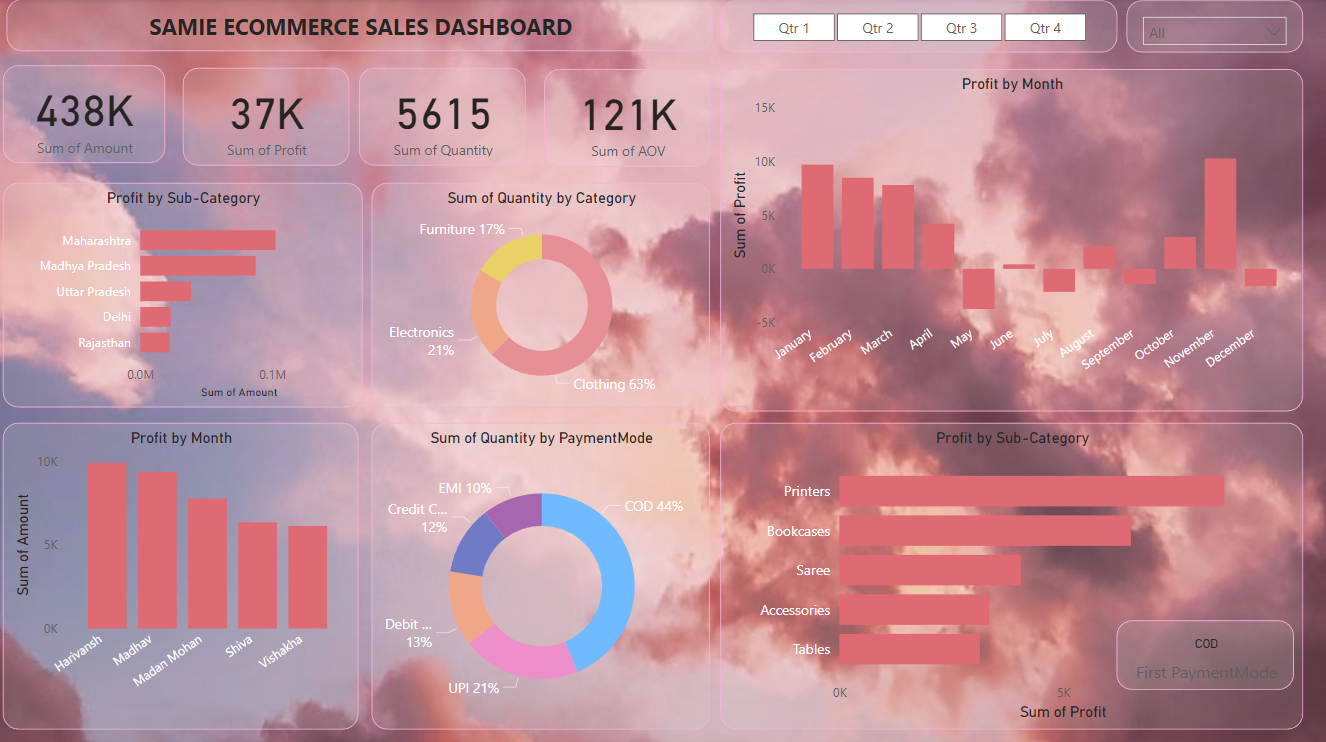

This screenshot's page, from the dashboard's own definition file:
{"tool":"powerbi","page":{"name":"Page 1","canvas":[1280,720],"ordinal":0},"visuals":[{"type":"textbox","box":[6.9,0,682,50.8],"z":0},{"type":"columnChart","title":"Profit by Month","fields":{"Category":["Orders.Order Date.Variation.Date Hierarchy.Month"],"Y":["Details.Profit"]},"box":[695.9,67.5,562,330.5],"z":1000},{"type":"barChart","title":"Profit by Sub-Category","fields":{"Category":["Details.Sub-Category"],"Y":["Details.Profit"]},"box":[695.7,408.9,562.6,296.4],"z":2000},{"type":"donutChart","fields":{"Category":["Details.Category"],"Y":["Details.Quantity"]},"box":[359.5,177,326.6,216.8],"z":3000},{"type":"donutChart","fields":{"Category":["Details.PaymentMode"],"Y":["Details.Quantity"]},"box":[359.5,408.9,326.6,296.4],"z":4000},{"type":"card","fields":{"Values":["Details.Amount"]},"box":[4.1,64.5,156.4,94.7],"z":5000},{"type":"card","fields":{"Values":["Details.Profit"]},"box":[177,65.9,160.5,94.7],"z":6000},{"type":"card","fields":{"Values":["Details.Quantity"]},"box":[347.2,65.9,160.5,94.7],"z":7000},{"type":"card","fields":{"Values":["Details.AOV"]},"box":[525.6,67.2,160.5,94.7],"z":8000},{"type":"barChart","title":"Profit by Sub-Category","fields":{"Category":["Orders.State"],"Y":["Details.Amount"]},"box":[4.1,177,347.2,216.8],"z":9000},{"type":"columnChart","title":"Profit by Month","fields":{"Category":["Orders.CustomerName"],"Y":["Details.Amount"]},"box":[4.1,408.9,343.1,296.4],"z":10000},{"type":"slicer","fields":{"Values":["Orders.Order Date.Variation.Date Hierarchy.Quarter"]},"box":[695.7,1.4,382.8,50.8],"z":11000},{"type":"slicer","fields":{"Values":["Orders.State"]},"box":[1088.2,1.4,170.2,50.8],"z":12000},{"type":"card","fields":{"Values":["Details.PaymentMode"]},"box":[1078.2,599.4,171.3,67.5],"z":13000}]}

Visuals, with their boxes in screenshot pixels (x1, y1, x2, y2), scaled from the page's 1280x720 canvas onto the 1326x742 screenshot:
textbox: (left=7, top=0, right=714, bottom=52)
"Profit by Month" columnChart: (left=721, top=70, right=1303, bottom=410)
"Profit by Sub-Category" barChart: (left=721, top=421, right=1304, bottom=727)
donutChart - Details.Category x Details.Quantity: (left=372, top=182, right=711, bottom=406)
donutChart - Details.PaymentMode x Details.Quantity: (left=372, top=421, right=711, bottom=727)
card - Details.Amount: (left=4, top=66, right=166, bottom=164)
card - Details.Profit: (left=183, top=68, right=350, bottom=166)
card - Details.Quantity: (left=360, top=68, right=526, bottom=166)
card - Details.AOV: (left=544, top=69, right=711, bottom=167)
"Profit by Sub-Category" barChart: (left=4, top=182, right=364, bottom=406)
"Profit by Month" columnChart: (left=4, top=421, right=360, bottom=727)
slicer - Orders.Order Date.Variation.Date Hierarchy.Quarter: (left=721, top=1, right=1117, bottom=54)
slicer - Orders.State: (left=1127, top=1, right=1304, bottom=54)
card - Details.PaymentMode: (left=1117, top=618, right=1294, bottom=687)
